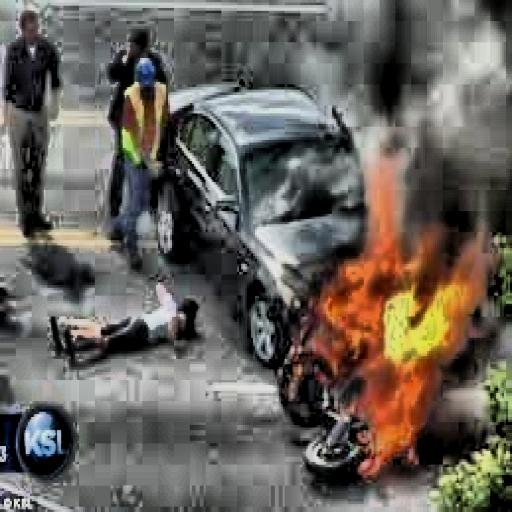fire: (293, 172, 486, 470)
